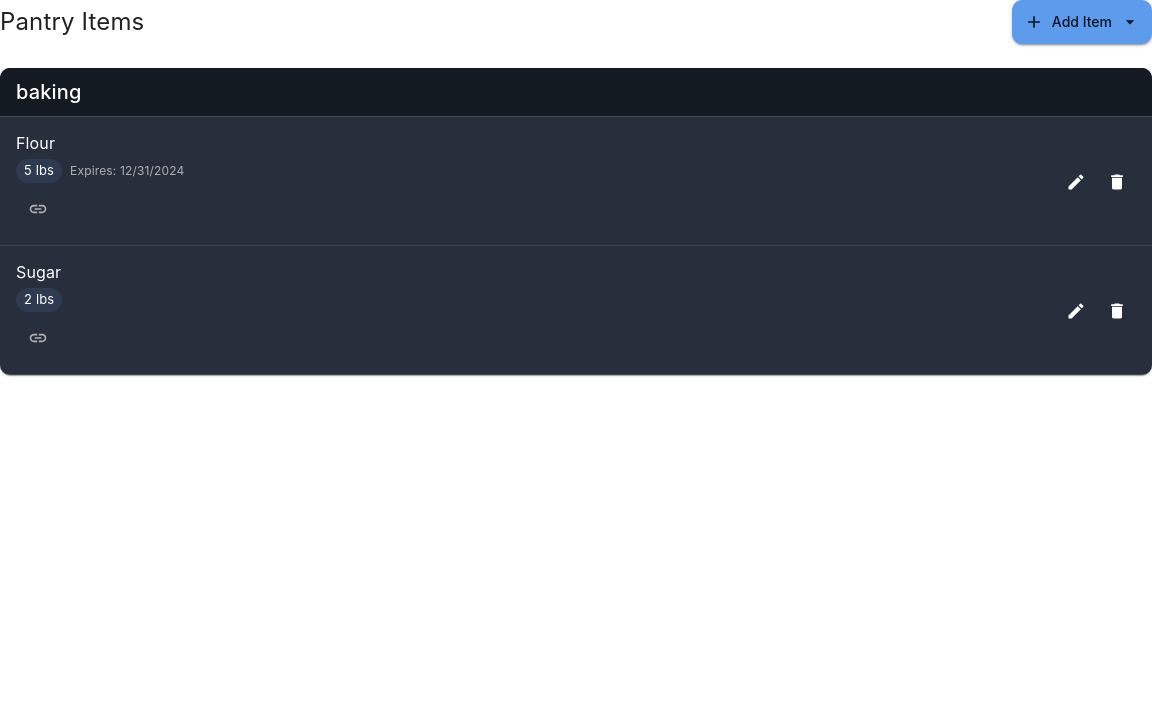
Test case: PantryManager Component › Add Item Dialog › should open add dialog when add manually menu item is clicked
Click the button "Add Item". click: (1082, 22)
box: [1012,0,1151,44]
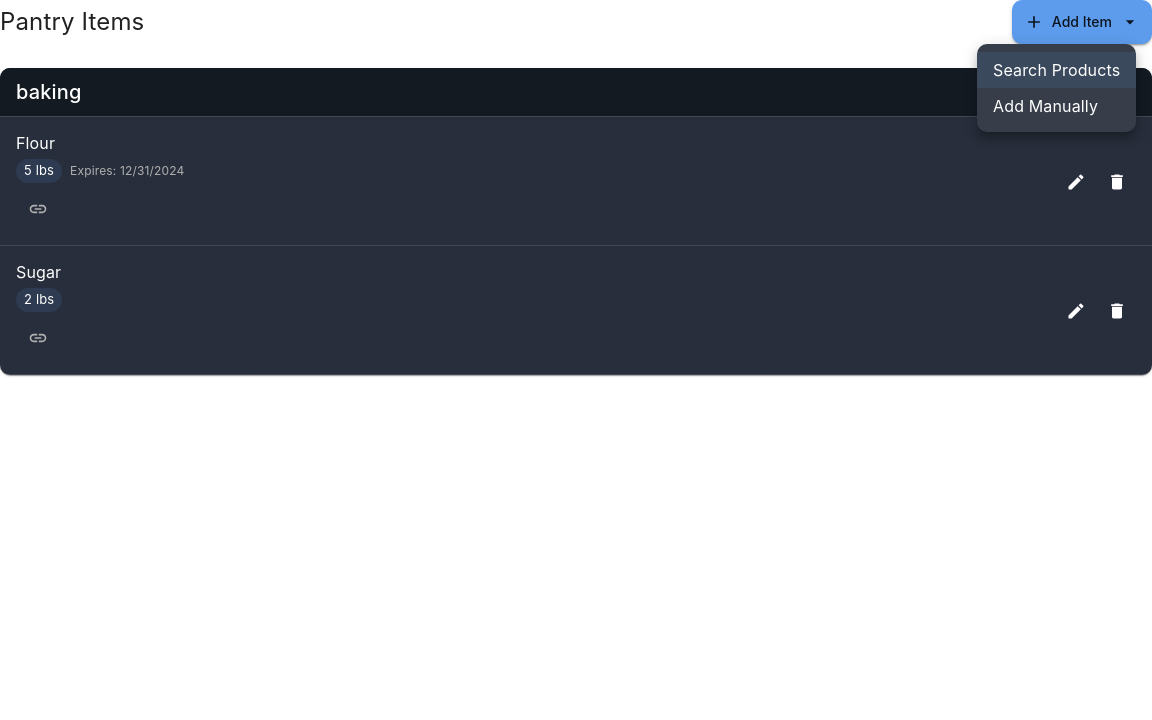
Click "Add Manually" menu item
Click the menu item with test id "pantry-add-manual-menu-item". click: (1046, 106)
box: [993,96,1098,116]
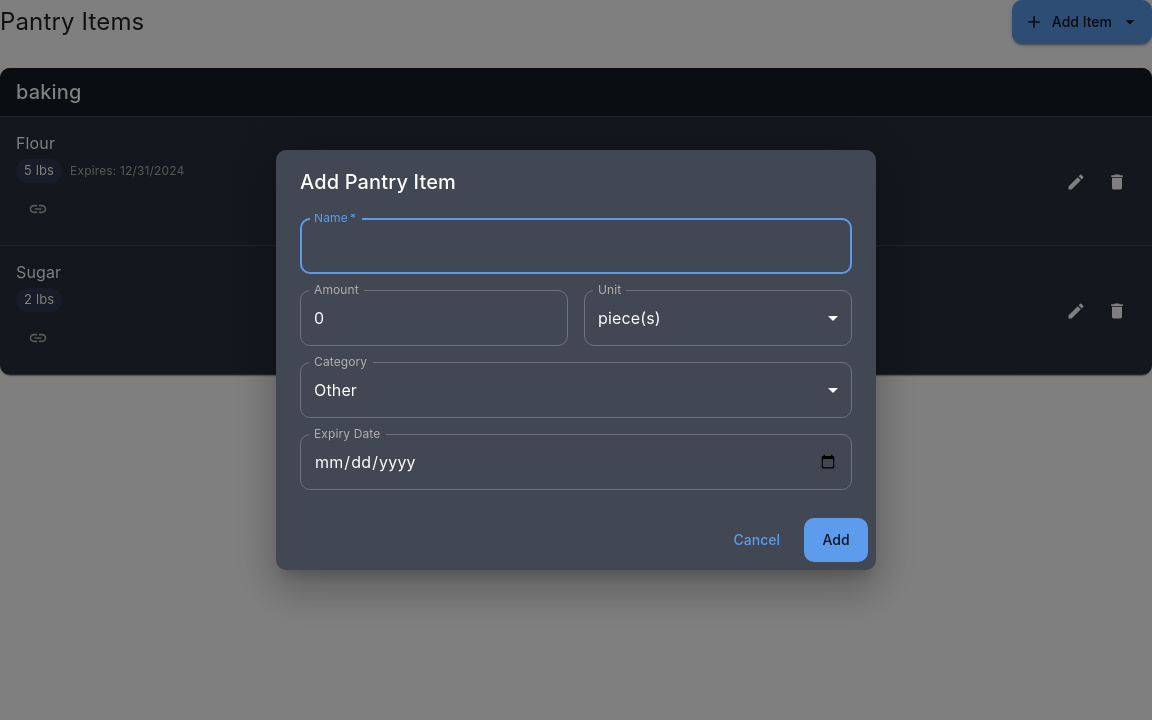
Check: the heading "Add Pantry Item" is shown, box [300,170,456,194]
Check: the element with test id "pantry-item-name-input" is shown, box [300,218,852,274]
Check: the element with test id "pantry-item-amount-input" is shown, box [300,290,568,346]
